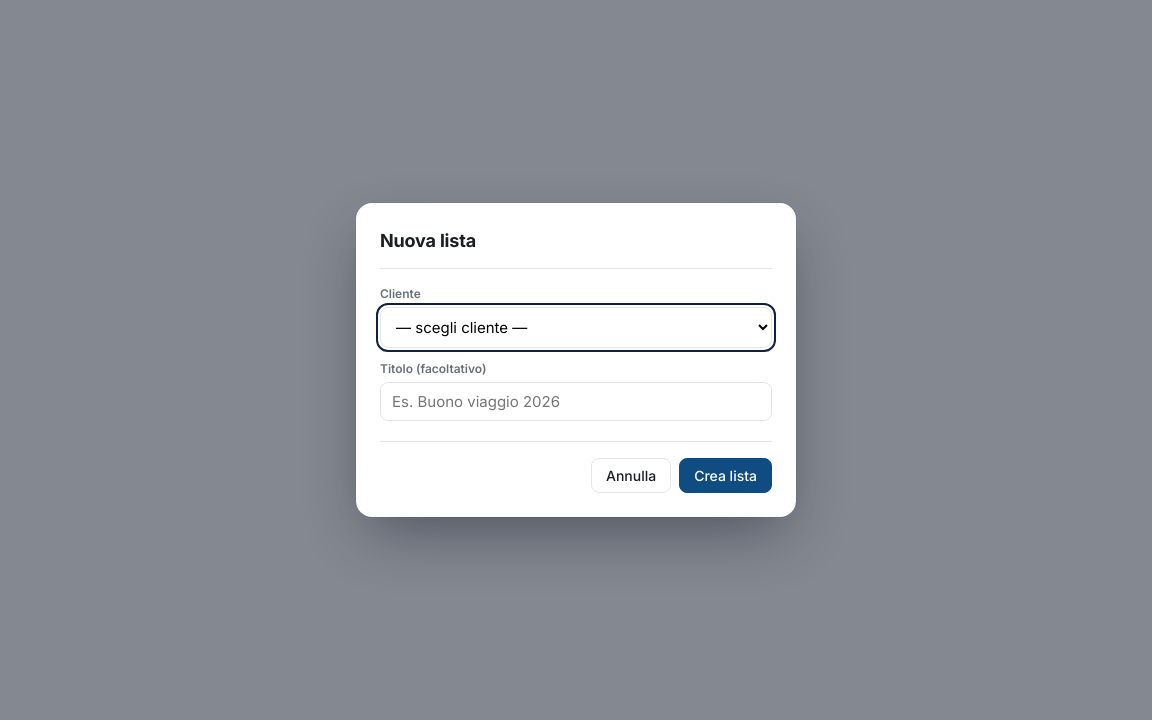
Test: NuovaListaModal — cliente e nome del nuovo cliente, un campo alla volta › '+ Nuovo cliente…' senza nome: l'avviso è sul campo nome, non su 'Cliente'
Select "+ Nuovo cliente…" in the dropdown labelled "Cliente": point(576, 328) [380,307,772,348]
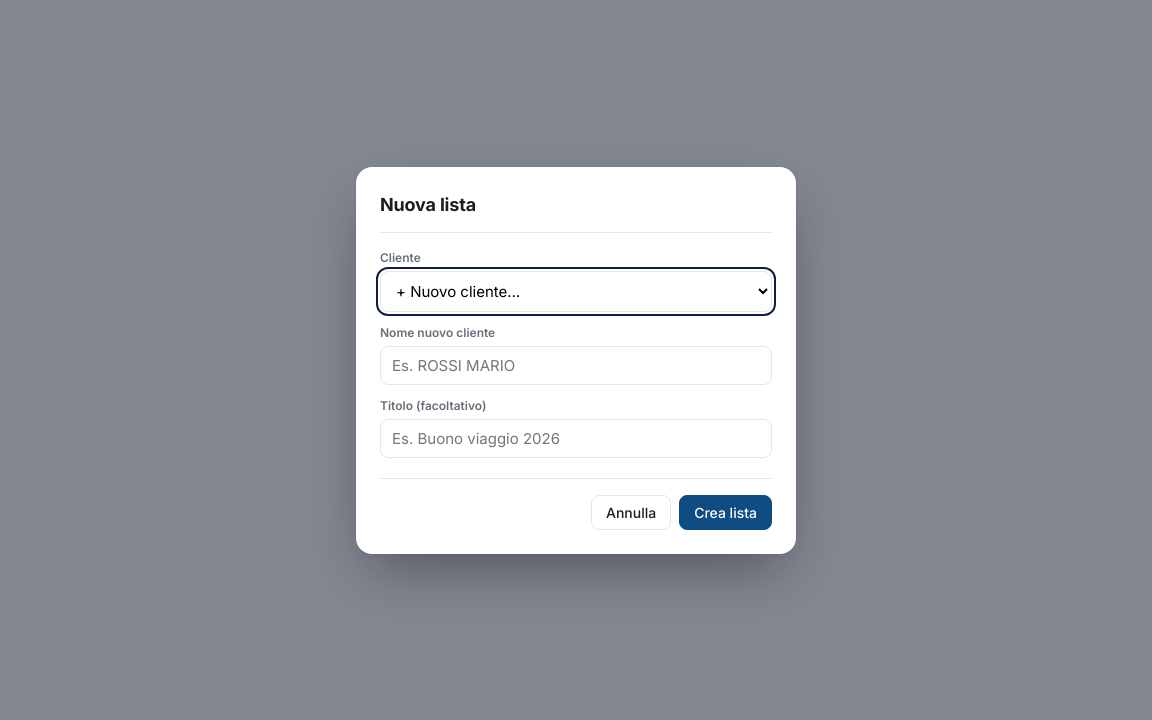
Click the button "Crea lista": point(726, 512) [679,494,772,530]
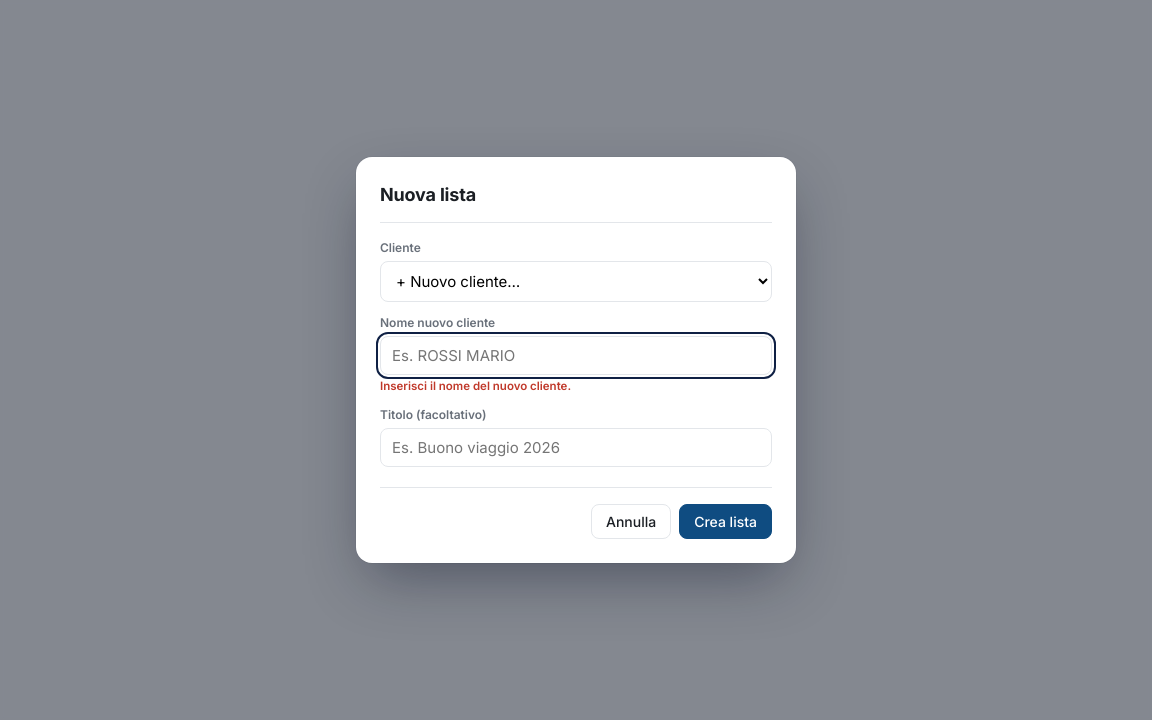
expect the message shows "nome del nuovo cliente": met, box [380,379,571,393]
